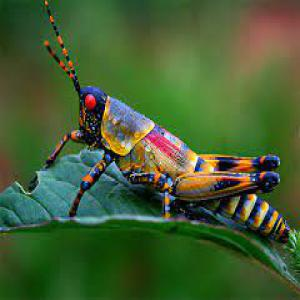locust: (50, 34, 292, 258)
